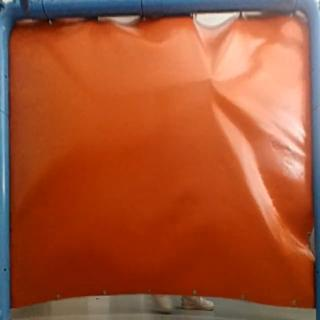Hit-hRxx: (202, 70, 221, 86)
